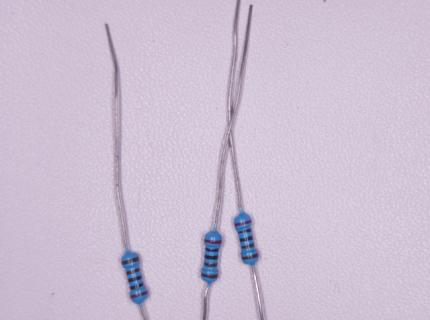Black band: (128, 275, 142, 283), (130, 282, 144, 290), (240, 235, 253, 242), (205, 254, 218, 260), (238, 228, 252, 233), (206, 247, 218, 252)
Brown band: (122, 256, 139, 265), (241, 253, 259, 260), (126, 268, 140, 275), (241, 242, 255, 249), (201, 273, 218, 278), (204, 262, 218, 267)
Red band: (130, 290, 148, 298), (234, 219, 252, 227), (204, 238, 222, 244)
